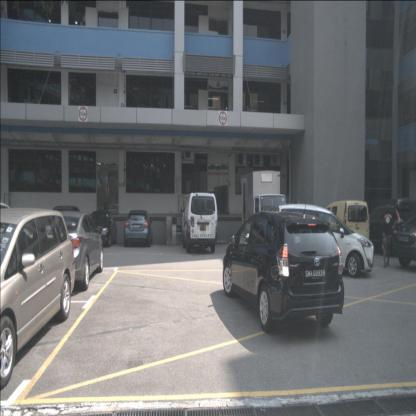human-pedestrian-adult: (380, 200, 398, 268)
vehicle-car: (222, 203, 344, 334), (0, 209, 75, 390), (277, 203, 374, 278), (40, 210, 104, 292), (361, 206, 416, 256), (319, 201, 369, 253), (182, 191, 218, 254), (394, 214, 416, 269), (86, 209, 117, 248), (124, 209, 152, 247)
vehicle-truck: (241, 169, 287, 252)
